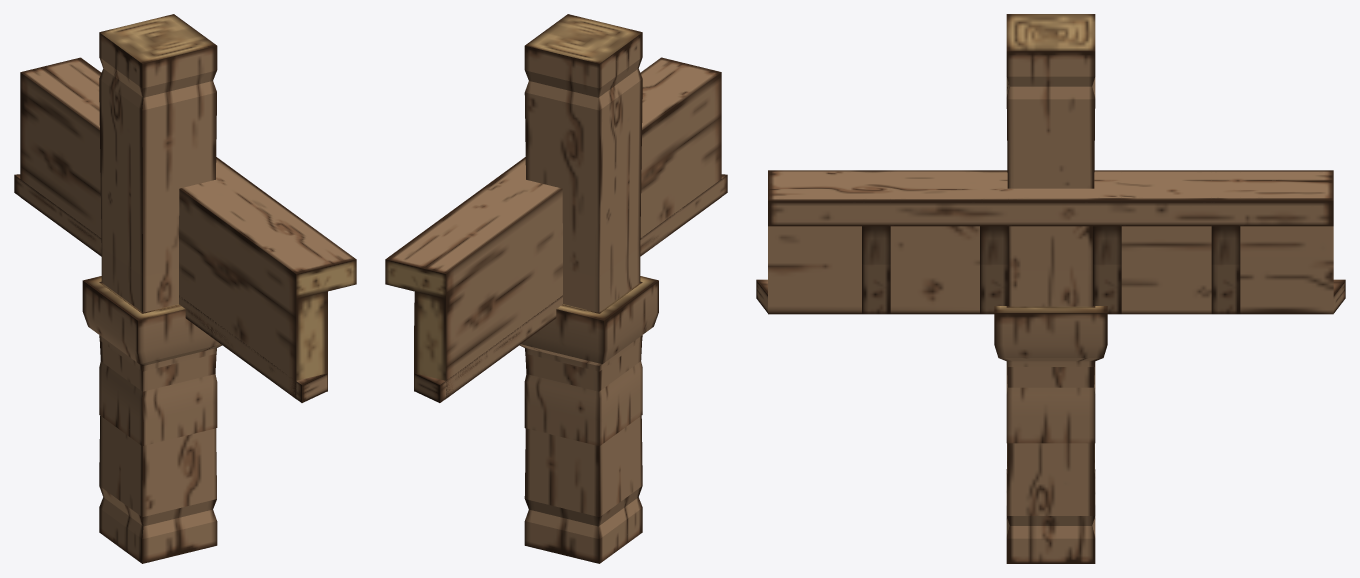
The model's file is Modularne elementy zachód2.fbx.
3 renders of one model, left to right at view 1: azimuth 30°, elevation 25°; view 2: azimuth 150°, elevation 25°; view 3: azimuth 270°, elevation 25°, orthographic. The views are drawn at different scales.
Visible parts, largest first — view 1: ściana zwieńczenie górne drewno.001, NarożnikŚcienny1.020, NarożnikŚcienny1.021, NarożnikŚcienny1.019, ściana detal poziomy drewno.013; view 2: ściana zwieńczenie górne drewno.001, NarożnikŚcienny1.020, NarożnikŚcienny1.021, NarożnikŚcienny1.019, ściana detal poziomy drewno.013; view 3: ściana zwieńczenie górne drewno.001, NarożnikŚcienny1.020, NarożnikŚcienny1.021, NarożnikŚcienny1.019.
Part boxes in pixels (x1,y1,x2,y2): ściana zwieńczenie górne drewno.001: (20,57,356,398); NarożnikŚcienny1.020: (99,14,217,516); NarożnikŚcienny1.021: (82,276,222,446); NarożnikŚcienny1.019: (99,281,217,563); ściana detal poziomy drewno.013: (14,174,327,402); ściana zwieńczenie górne drewno.001: (385,57,721,398); NarożnikŚcienny1.020: (524,14,642,516); NarożnikŚcienny1.021: (519,276,658,446); NarożnikŚcienny1.019: (524,281,642,563); ściana detal poziomy drewno.013: (414,174,727,402); ściana zwieńczenie górne drewno.001: (768,170,1333,314); NarożnikŚcienny1.020: (1006,14,1095,515); NarożnikŚcienny1.021: (994,306,1107,443); NarożnikŚcienny1.019: (1006,306,1095,563).
Bounding box in the file's own units: 67.95 × 300 × 313.
1 material, 1 textured.
